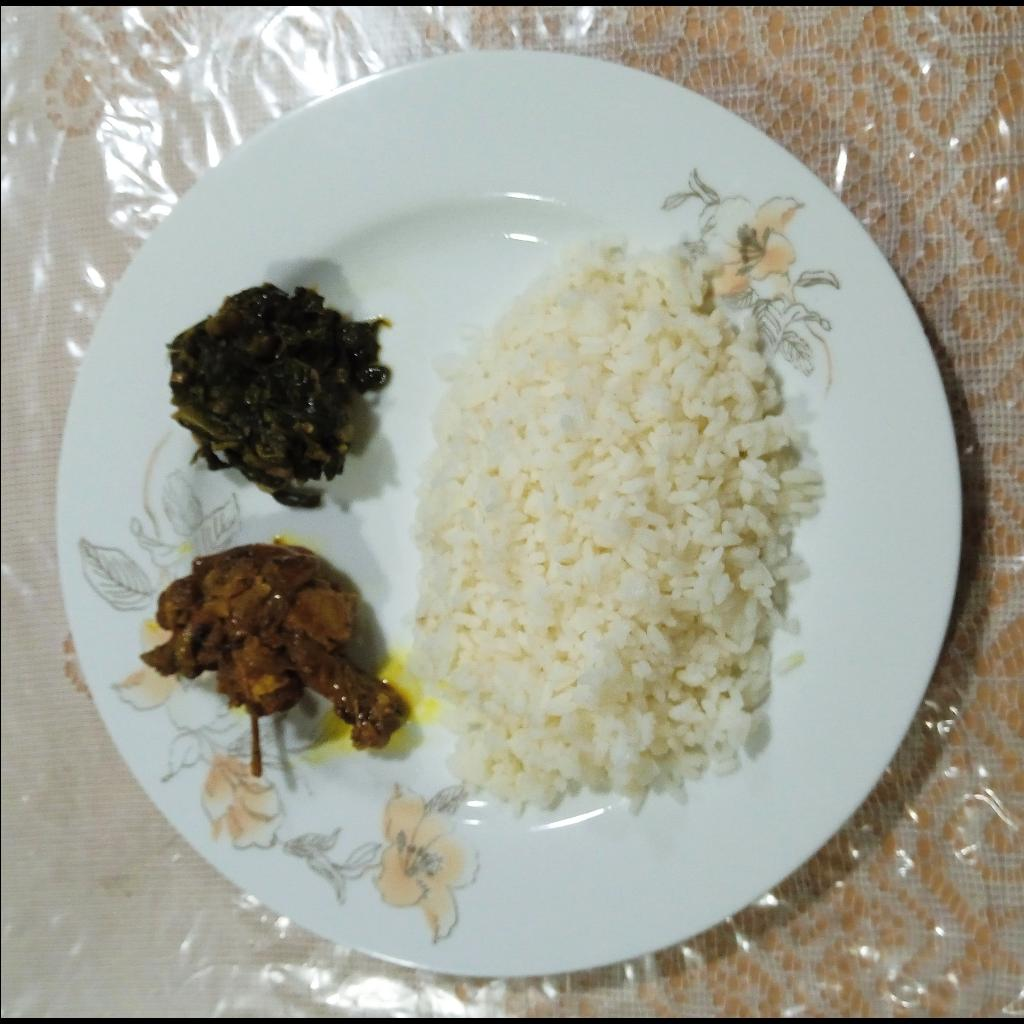chicken: (144, 539, 410, 777)
rice: (405, 236, 822, 827)
shak: (167, 282, 389, 509)
